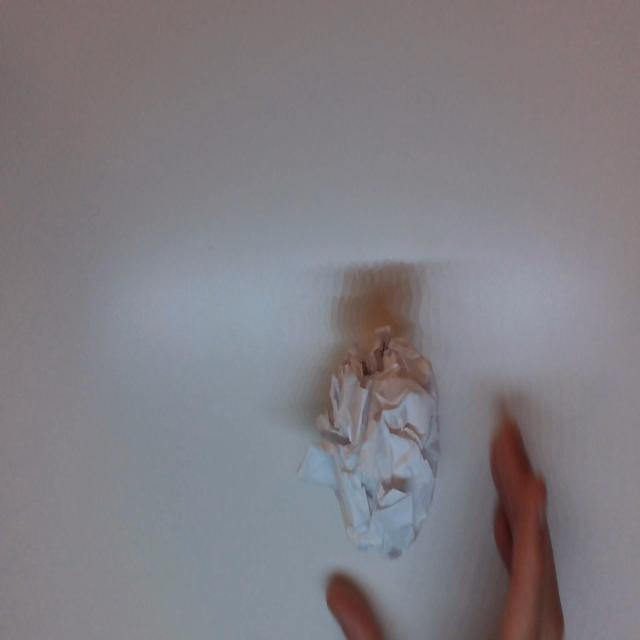Paper: (319, 333, 440, 565)
